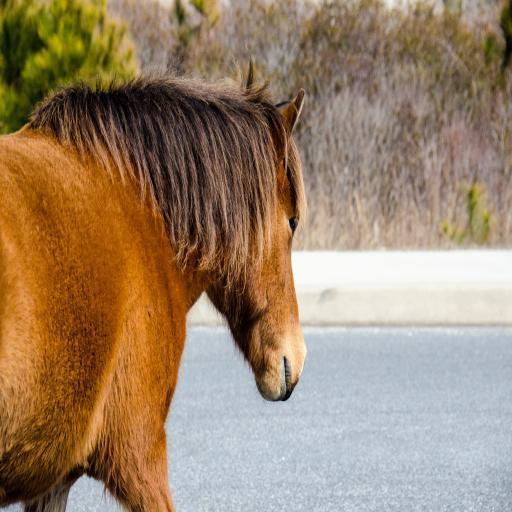horse: (0, 74, 311, 512)
